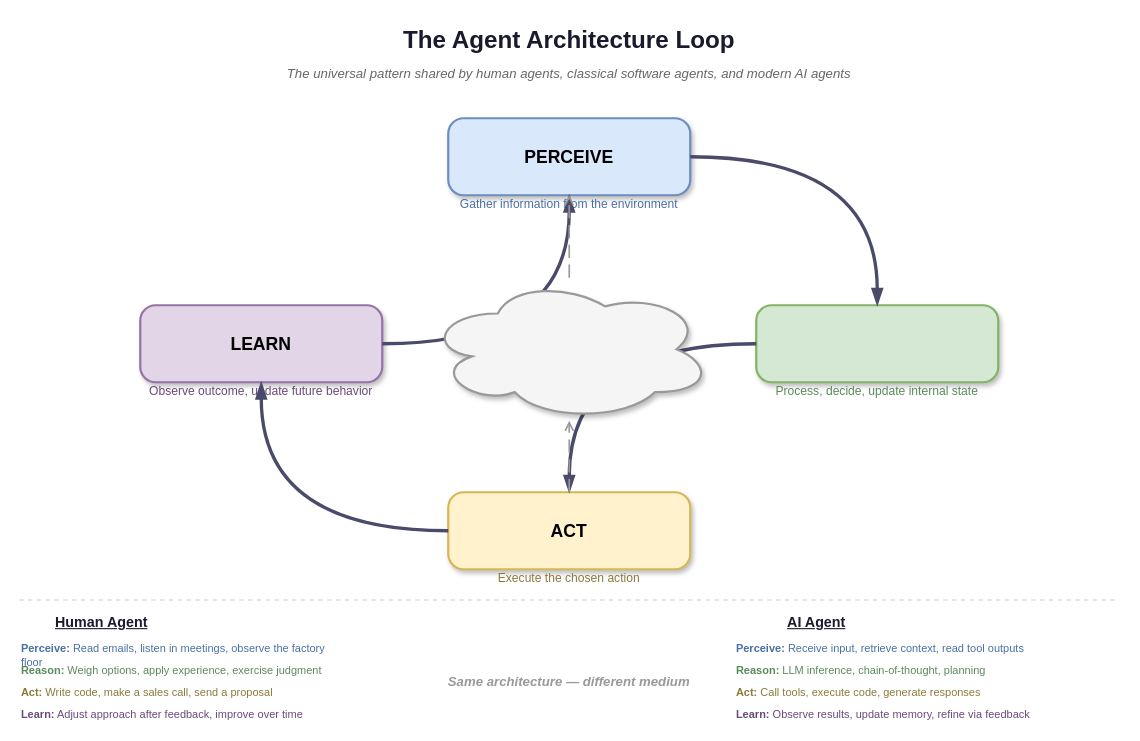
Image size: 1140x741. Some labels were removed from this diagram. The centre of each missing label's shape, as x and y in pixels:
"ENVIRONMENT" goes at [569,350].
"REASON" goes at [877,345].
